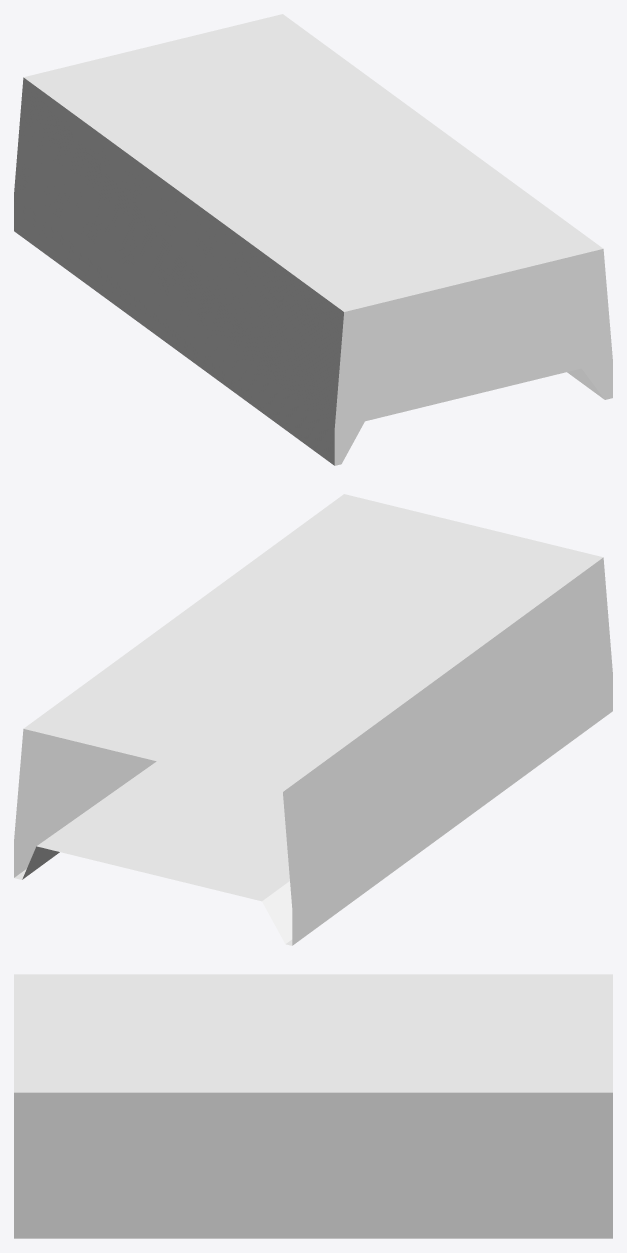
Rendered from Columna_02.fbx.
3 renders of one model, top to bottom at view 1: azimuth 30°, elevation 25°; view 2: azimuth 150°, elevation 25°; view 3: azimuth 270°, elevation 25°, orthographic. The views are drawn at different scales.
Parts seen in each view (by area): view 1: Columna_02; view 2: Columna_02; view 3: Columna_02.
Part boxes in pixels (left/top/right/bottom): Columna_02: left=14, top=14, right=612, bottom=465; Columna_02: left=14, top=494, right=612, bottom=945; Columna_02: left=14, top=974, right=612, bottom=1238.
Size of the model in its own units: 2.62 by 1.36 by 5.23.
